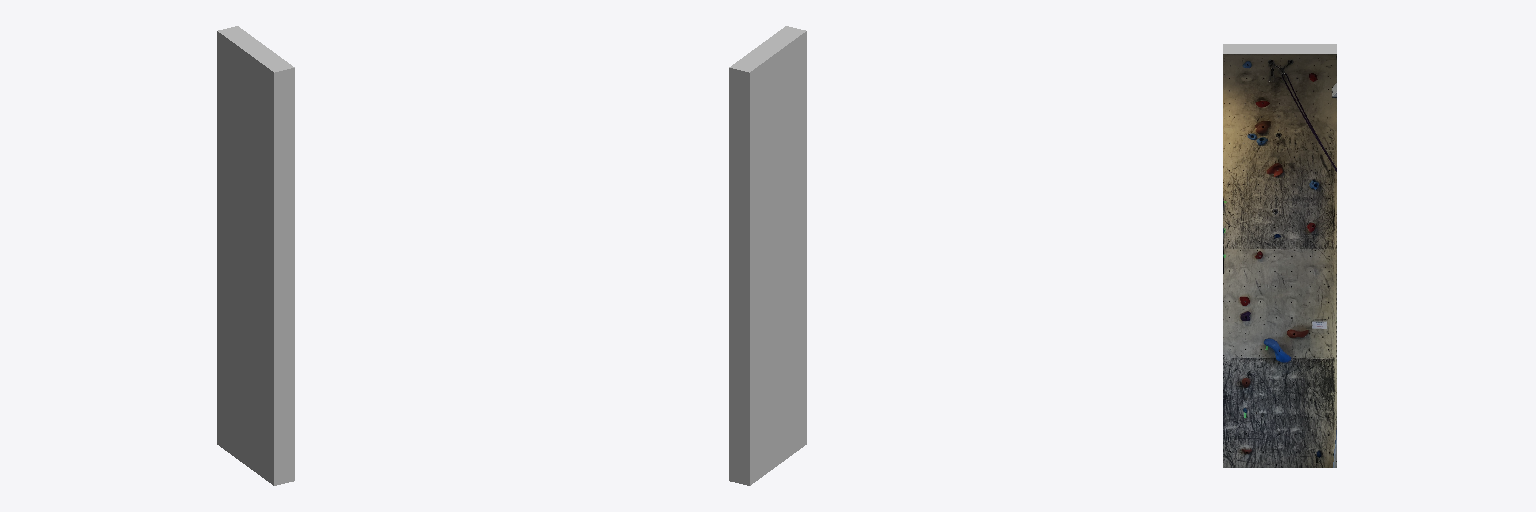
The picture shows the model from 3 angles: view 1: azimuth 30°, elevation 25°; view 2: azimuth 150°, elevation 25°; view 3: azimuth 270°, elevation 25°; orthographic projection.
Parts seen in each view (by area): view 1: Cube; view 2: Cube; view 3: Cube.
Part boxes in pixels (x1,y1,x2,y2): Cube: (217,26,294,485); Cube: (729,26,806,485); Cube: (1223,44,1336,467).
Size of the model in its own units: 0.25 by 4.8 by 1.2.
2 materials, 1 textured.